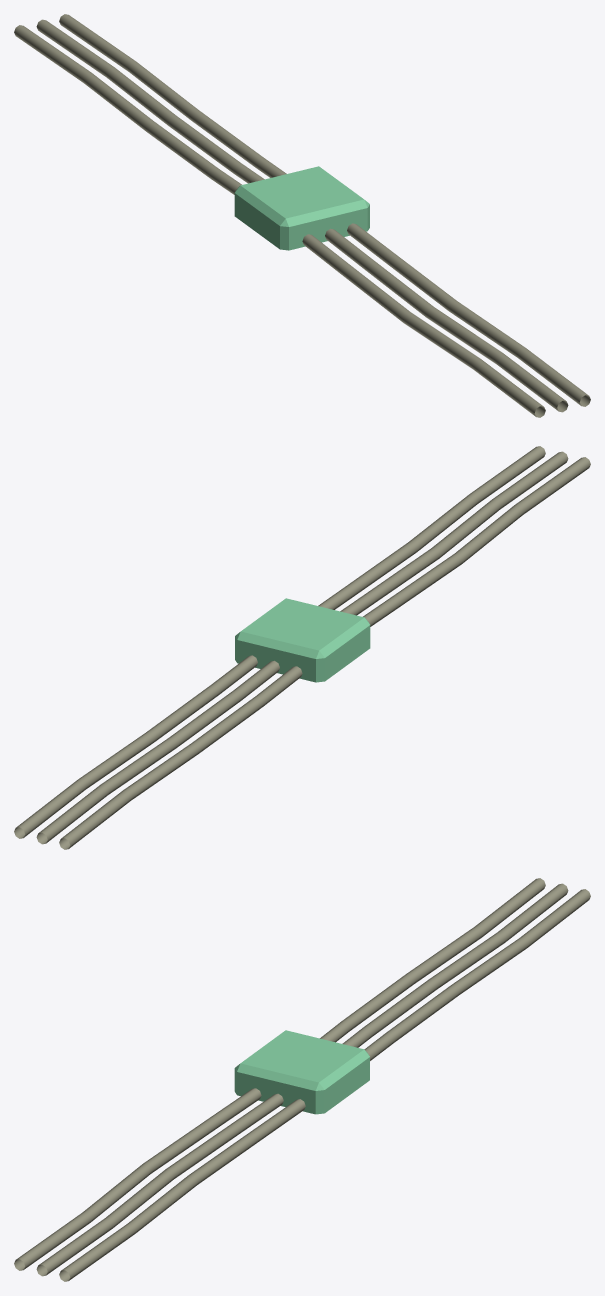
The model's file is Wires.fbx.
3 renders of one model, top to bottom at view 1: azimuth 30°, elevation 25°; view 2: azimuth 150°, elevation 25°; view 3: azimuth 330°, elevation 25°, orthographic.
Parts seen in each view (by area): view 1: Wire, Wirebox; view 2: Wire, Wirebox; view 3: Wire, Wirebox.
Boxes of the visible parts, <box> form: Wire: <box>14,14,590,417</box>; Wirebox: <box>234,166,369,250</box>; Wire: <box>14,446,590,849</box>; Wirebox: <box>235,598,370,682</box>; Wire: <box>14,878,590,1281</box>; Wirebox: <box>234,1030,369,1114</box>.
Bounding box in the file's own units: 0.8 × 0.25 × 8.
